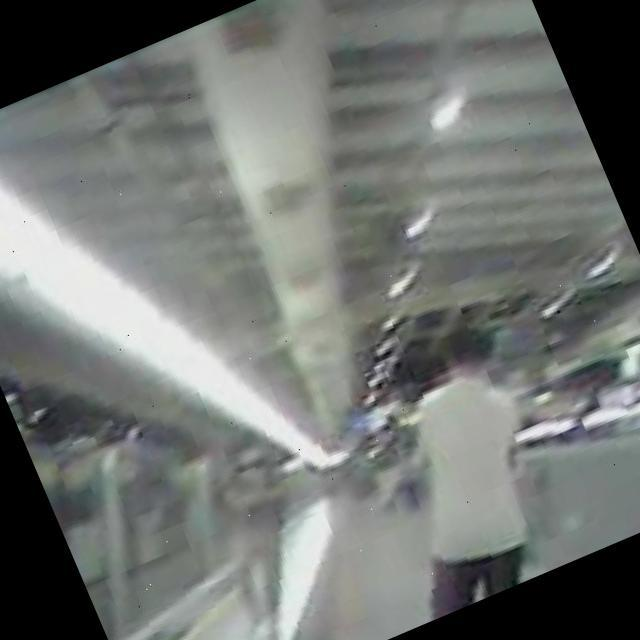person: (326, 309, 590, 621), (165, 418, 345, 640)
